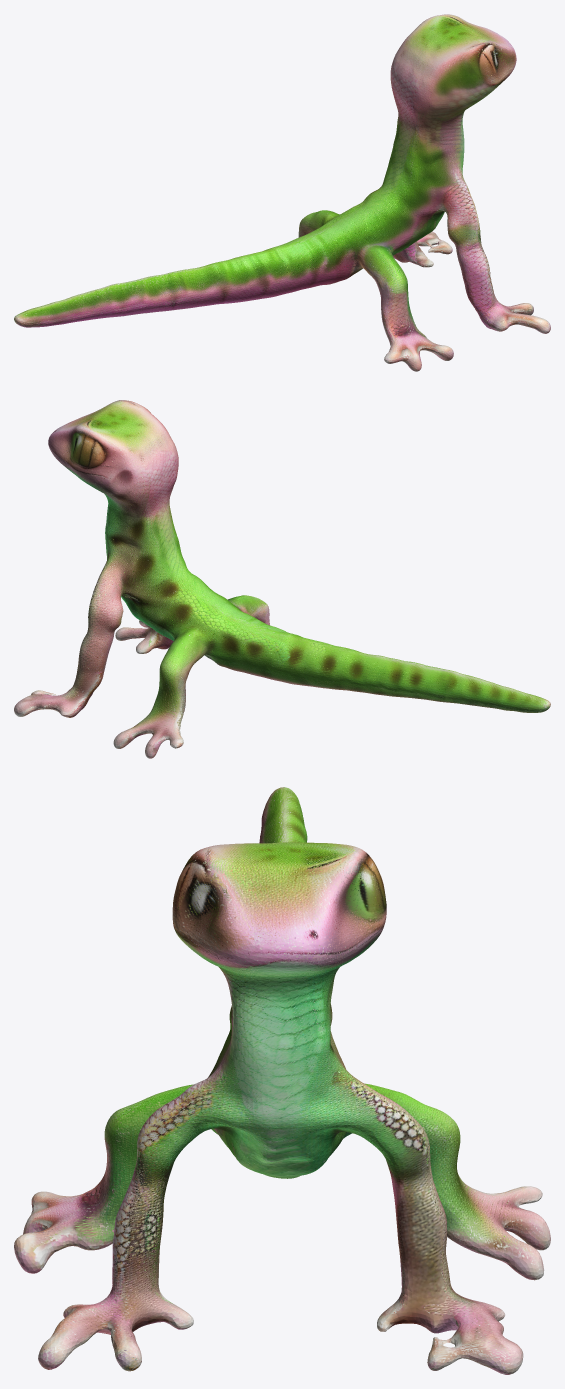
The model's file is textured_ours.glb.
The picture shows the model from 3 angles, top to bottom: view 1: azimuth 30°, elevation 25°; view 2: azimuth 150°, elevation 25°; view 3: azimuth 270°, elevation 25°; orthographic projection. The views are drawn at different scales.
Visible parts, largest first — view 1: Node; view 2: Node; view 3: Node.
Part boxes in pixels (x1,y1,x2,y2): Node: [14, 14, 550, 371]; Node: [14, 400, 550, 758]; Node: [14, 787, 550, 1374].
Size of the model in its own units: 2 by 1.03 by 1.
Materials: 1 (1 with a texture image).
